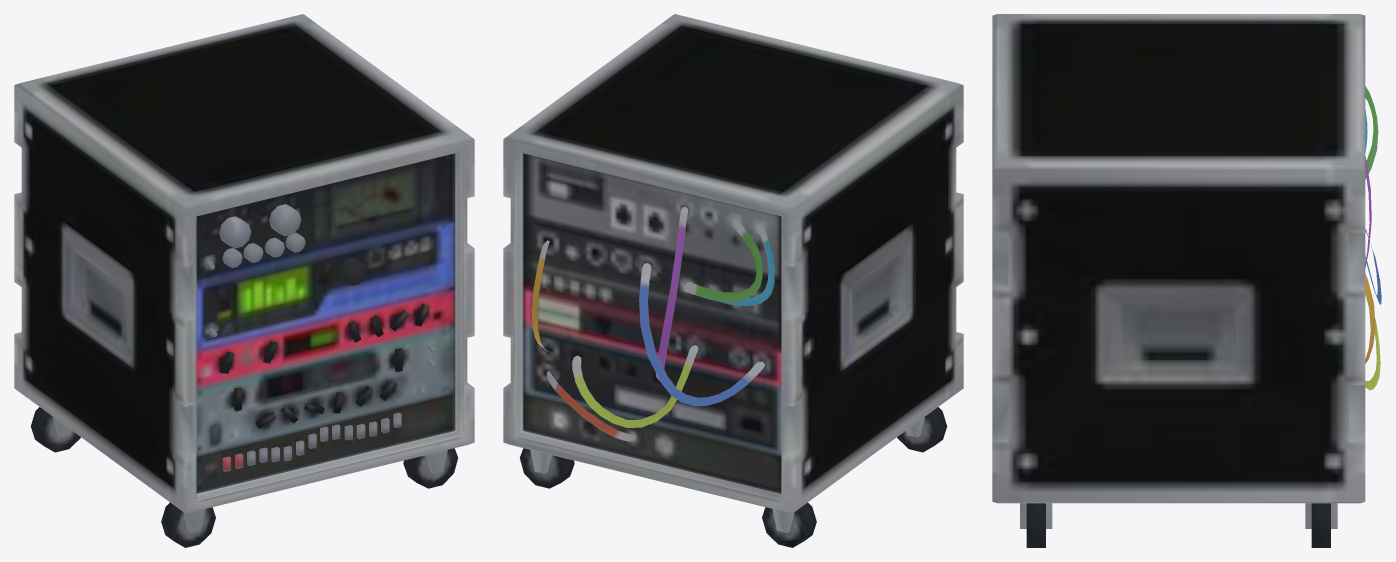
3 views of the same model, side by side, from view 1: azimuth 30°, elevation 25°; view 2: azimuth 150°, elevation 25°; view 3: azimuth 270°, elevation 25° (orthographic). The views are drawn at different scales.
Size of the model in its own units: 7.24 by 8.51 by 7.7.
2 materials, 2 textured.
